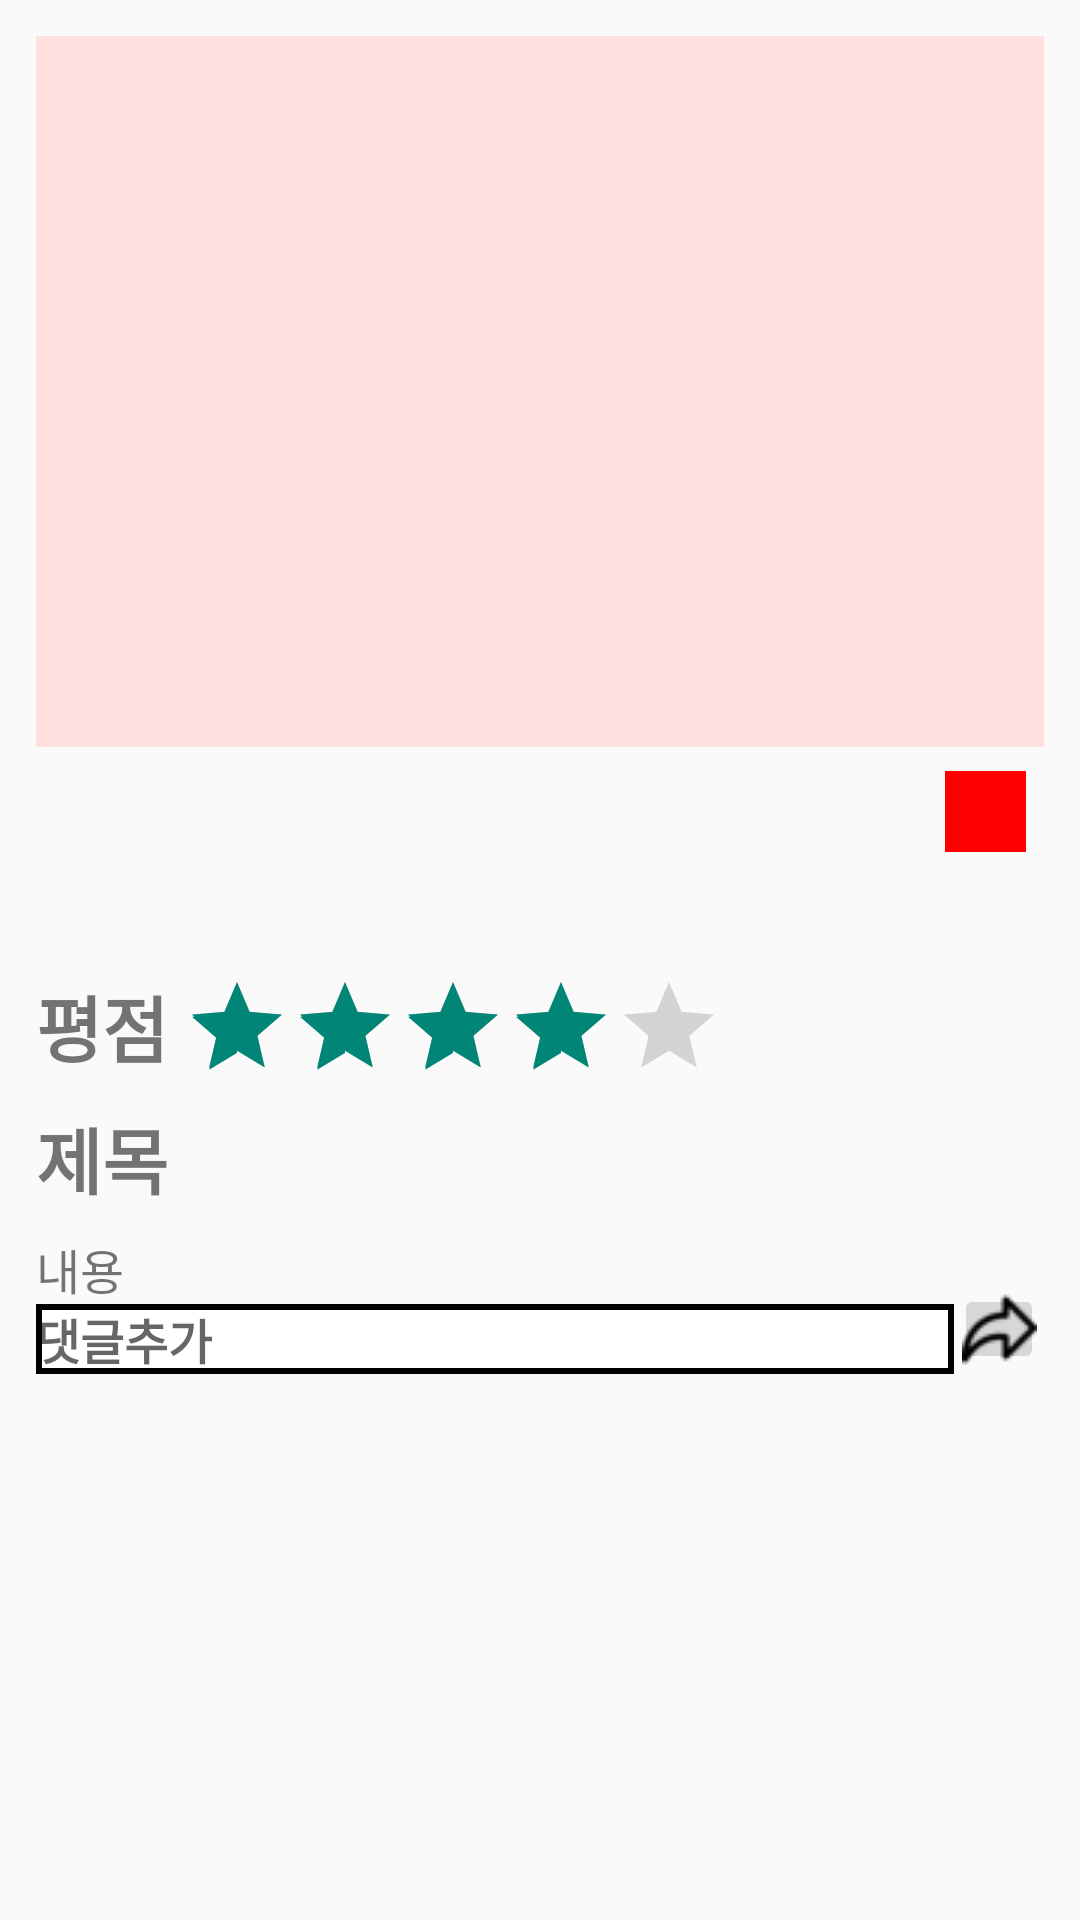

Icons on this 1080*1920 Android screen, each with its box as Rect(x1, y1, x2, y2):
send comment: Rect(962, 1294, 1037, 1365)
